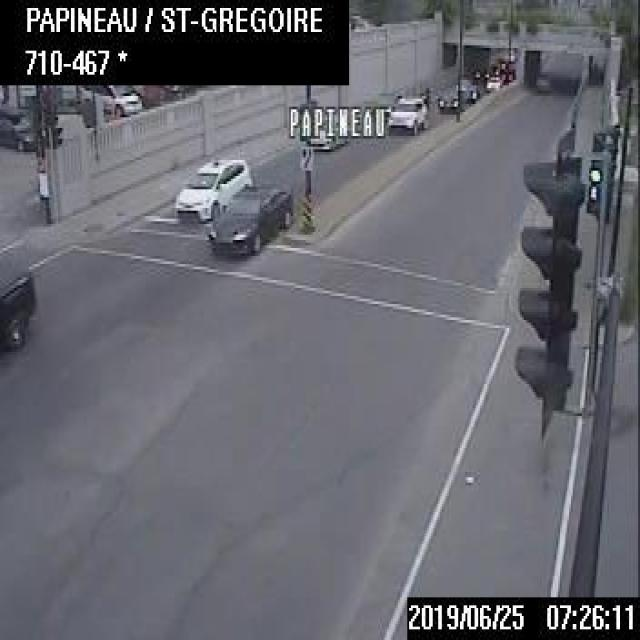vehicle: (205, 180, 292, 258), (171, 149, 250, 225), (0, 267, 35, 349), (77, 79, 143, 118), (0, 107, 36, 153), (386, 93, 428, 131), (309, 120, 347, 149), (454, 75, 477, 102), (434, 87, 456, 112), (484, 74, 500, 90)
